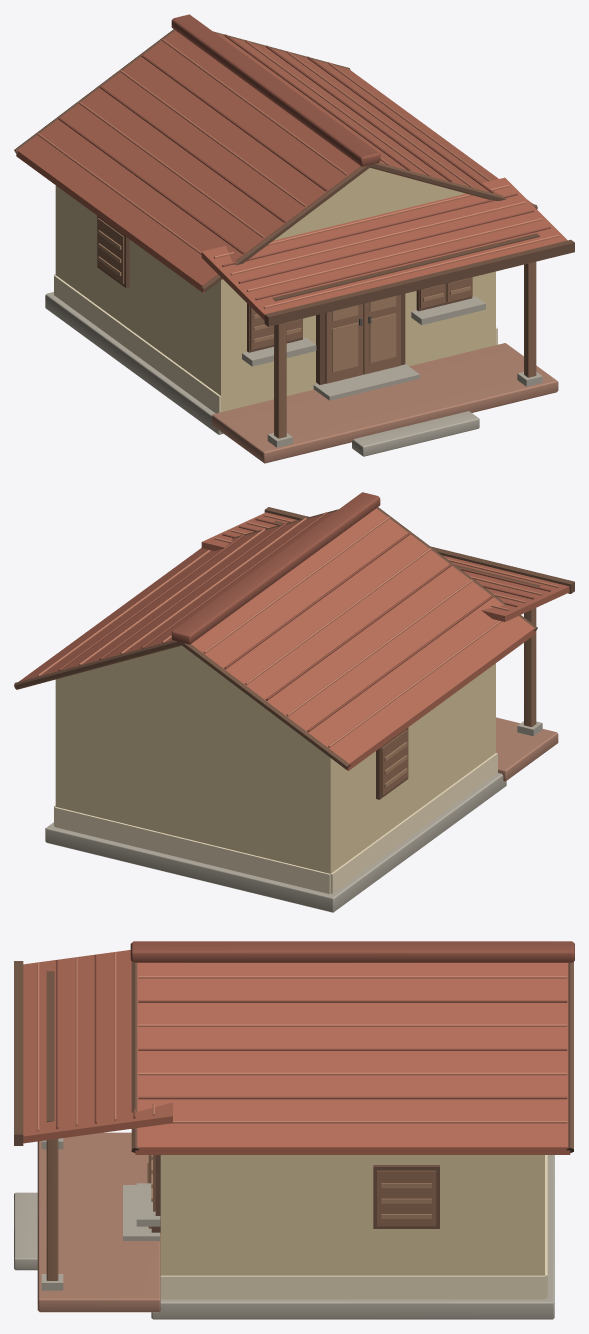
The model's file is NhaQueHoiAn_01.fbx.
The picture shows the model from 3 angles, top to bottom: view 1: azimuth 30°, elevation 25°; view 2: azimuth 150°, elevation 25°; view 3: azimuth 270°, elevation 25°; orthographic projection. The views are drawn at different scales.
Parts seen in each view (by area): view 1: 04_MaiNgoi_Trai, 02_ThanNha_VoiVang, 14_MaiHien_NgoiDat, 08_SanHien, 04_MaiNgoi_Phai, 07_NgoiNoc, 03_TuongHoiTamGiac, 16_DiemBongMaiHien, 31_ChanTuongBen_Trai, 01_BeNha_Da, 09_BacTamCap, 23_NguongCua (+33 smaller); view 2: 02_ThanNha_VoiVang, 04_MaiNgoi_Trai, 04_MaiNgoi_Phai, 01_BeNha_Da, 32_ChanTuongSau, 03_TuongHoiTamGiac, 07_NgoiNoc, 31_ChanTuongBen_Trai, 14_MaiHien_NgoiDat, 08_SanHien, 06_VienMai_Trai_Sau, 06_VienMai_Phai_Sau (+16 smaller); view 3: 04_MaiNgoi_Phai, 02_ThanNha_VoiVang, 14_MaiHien_NgoiDat, 08_SanHien, 07_NgoiNoc, 31_ChanTuongBen_Phai, 01_BeNha_Da, 29_CanhChopBen_Phai, 09_BacTamCap, 16_DiemBongMaiHien, 10_CotHien_Phai, 05_HangNgoi_Phai_05 (+17 smaller).
Part boxes in pixels (x1=…): 04_MaiNgoi_Trai: x1=16, y1=30, x2=360, y2=292; 02_ThanNha_VoiVang: x1=55, y1=185, x2=495, y2=411; 14_MaiHien_NgoiDat: x1=201, y1=177, x2=567, y2=320; 08_SanHien: x1=212, y1=343, x2=558, y2=463; 04_MaiNgoi_Phai: x1=216, y1=33, x2=532, y2=203; 07_NgoiNoc: x1=171, y1=14, x2=380, y2=166; 03_TuongHoiTamGiac: x1=274, y1=168, x2=465, y2=240; 16_DiemBongMaiHien: x1=264, y1=239, x2=574, y2=326; 31_ChanTuongBen_Trai: x1=54, y1=275, x2=220, y2=413; 01_BeNha_Da: x1=45, y1=292, x2=223, y2=434; 09_BacTamCap: x1=352, y1=411, x2=479, y2=456; 23_NguongCua: x1=313, y1=364, x2=419, y2=400; 02_ThanNha_VoiVang: x1=55, y1=663, x2=495, y2=873; 04_MaiNgoi_Trai: x1=191, y1=508, x2=535, y2=770; 04_MaiNgoi_Phai: x1=16, y1=511, x2=335, y2=689; 01_BeNha_Da: x1=45, y1=773, x2=506, y2=912; 32_ChanTuongSau: x1=54, y1=807, x2=330, y2=893; 03_TuongHoiTamGiac: x1=78, y1=645, x2=285, y2=723; 07_NgoiNoc: x1=171, y1=492, x2=380, y2=644; 31_ChanTuongBen_Trai: x1=330, y1=753, x2=497, y2=893; 14_MaiHien_NgoiDat: x1=201, y1=512, x2=569, y2=621; 08_SanHien: x1=496, y1=717, x2=558, y2=781; 06_VienMai_Trai_Sau: x1=180, y1=642, x2=350, y2=769; 06_VienMai_Phai_Sau: x1=14, y1=640, x2=181, y2=689; 04_MaiNgoi_Phai: x1=135, y1=963, x2=570, y2=1154; 02_ThanNha_VoiVang: x1=160, y1=1155, x2=544, y2=1275; 14_MaiHien_NgoiDat: x1=23, y1=950, x2=172, y2=1143; 08_SanHien: x1=37, y1=1132, x2=160, y2=1312; 07_NgoiNoc: x1=130, y1=941, x2=574, y2=962; 31_ChanTuongBen_Phai: x1=160, y1=1275, x2=544, y2=1299; 01_BeNha_Da: x1=151, y1=1155, x2=554, y2=1319; 29_CanhChopBen_Phai: x1=377, y1=1170, x2=436, y2=1226; 09_BacTamCap: x1=14, y1=1192, x2=37, y2=1270; 16_DiemBongMaiHien: x1=14, y1=961, x2=23, y2=1145; 10_CotHien_Phai: x1=46, y1=1139, x2=58, y2=1280; 05_HangNgoi_Phai_05: x1=138, y1=1072, x2=567, y2=1075.
Size of the model in its own units: 585 by 420 by 730.
